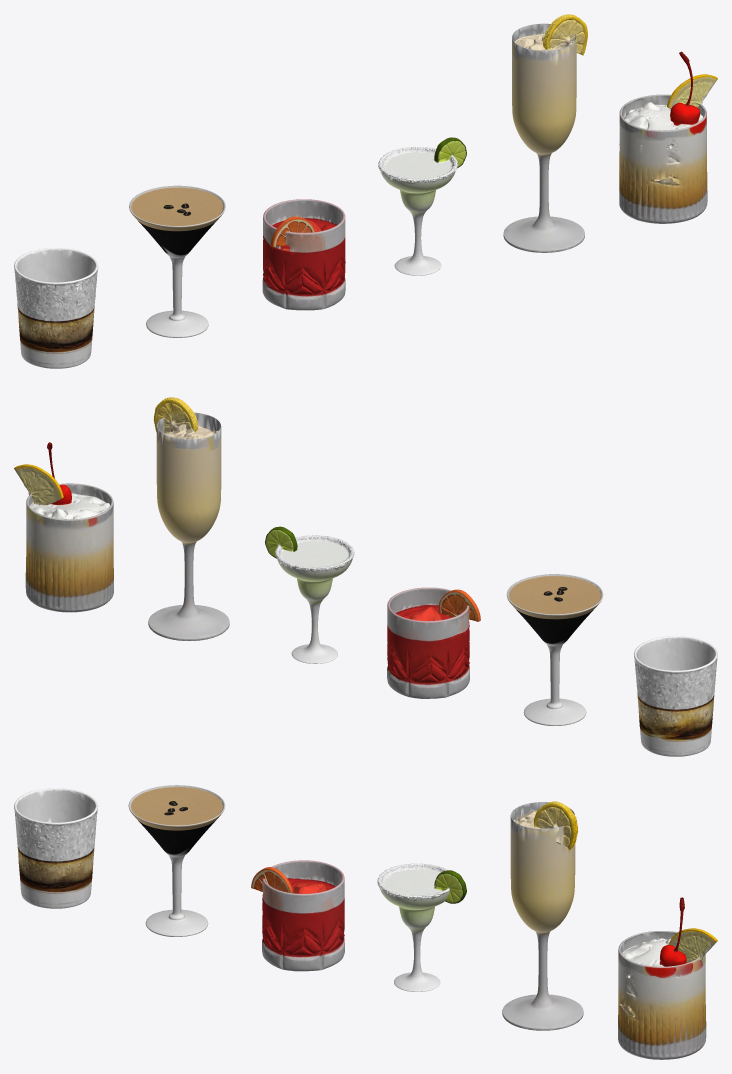
The model's file is menu-flight.glb.
3 renders of one model, top to bottom at view 1: azimuth 30°, elevation 25°; view 2: azimuth 150°, elevation 25°; view 3: azimuth 330°, elevation 25°, orthographic.
Parts seen in each view (by area): view 1: mesh_node (×6); view 2: mesh_node (×6); view 3: mesh_node (×6).
Part boxes in pixels (<box>): mesh_node (×6): <box>14,14,717,368</box>; mesh_node (×6): <box>14,397,717,756</box>; mesh_node (×6): <box>14,785,717,1059</box>.
Bounding box in the file's own units: 0.7345 × 0.22 × 0.0881.
6 materials, 6 textured.
